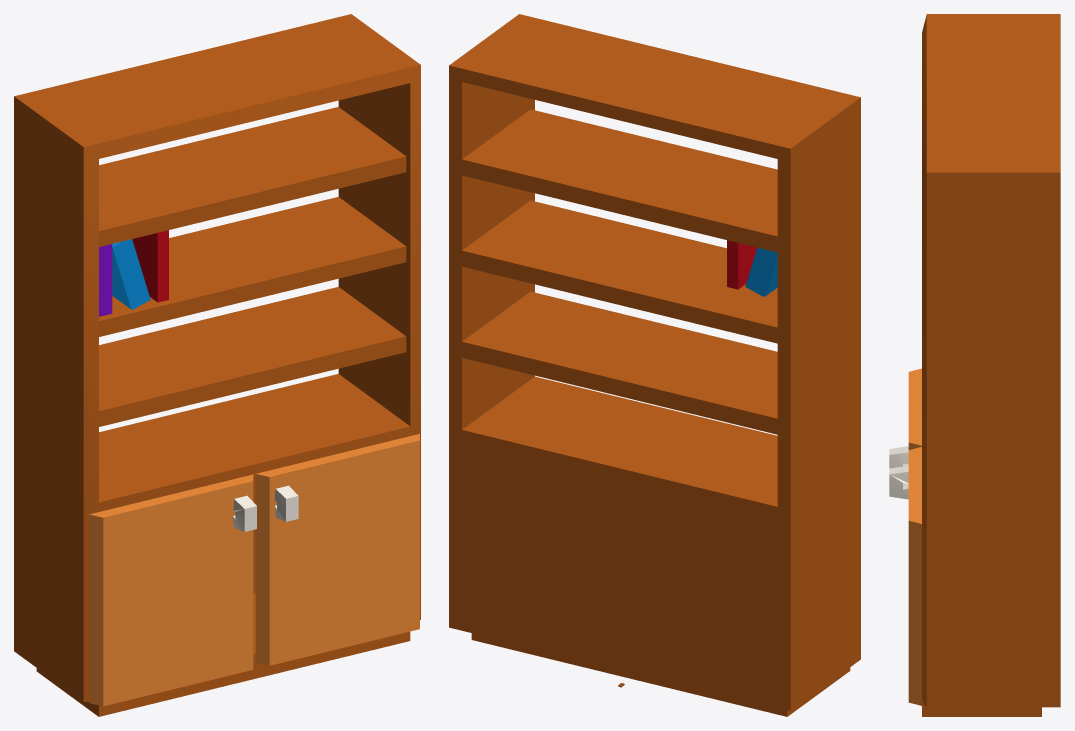
Rendered from livingroom_bookshelf.fbx.
The picture shows the model from 3 angles, left to right: view 1: azimuth 30°, elevation 25°; view 2: azimuth 150°, elevation 25°; view 3: azimuth 270°, elevation 25°; orthographic projection. The views are drawn at different scales.
Visible parts, largest first — view 1: polySurface13; view 2: polySurface13; view 3: polySurface13.
Part boxes in pixels (box(x1,y1,x2,y2)): polySurface13: box(14, 14, 420, 716); polySurface13: box(449, 14, 860, 716); polySurface13: box(889, 14, 1060, 716).
Bounding box in the file's own units: 1.09 × 1.77 × 0.4963.
